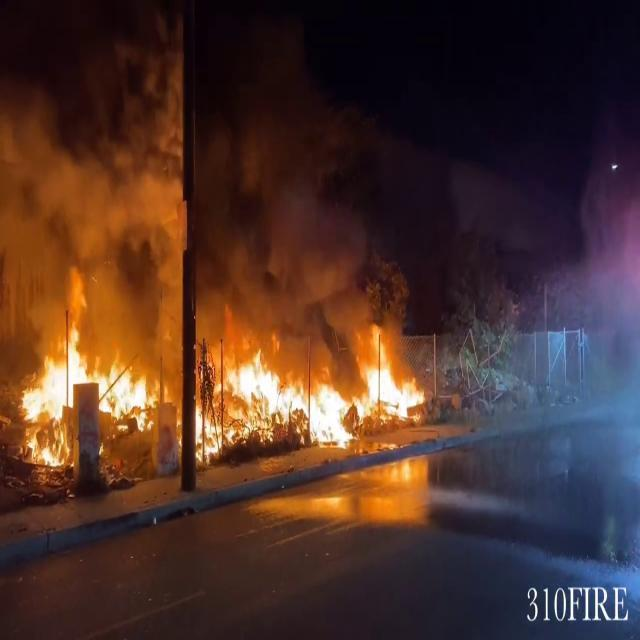Fire: (196, 330, 428, 448), (9, 304, 160, 470)
Smoke: (0, 34, 412, 333)
